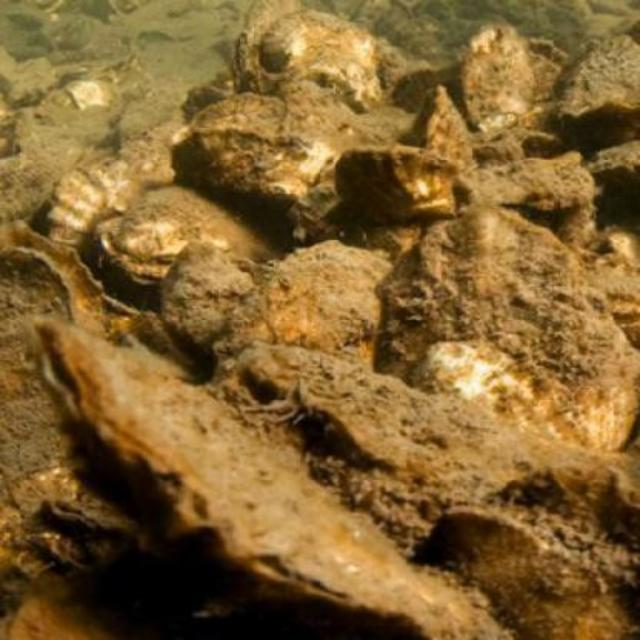Oyster-Closed: (35, 319, 457, 630), (382, 204, 638, 450), (257, 348, 638, 507), (422, 476, 638, 638), (218, 243, 395, 373), (100, 181, 286, 283), (0, 250, 74, 496), (177, 91, 314, 192), (262, 14, 384, 112), (162, 246, 275, 349), (50, 161, 166, 251), (333, 144, 459, 226), (232, 0, 303, 98), (468, 28, 537, 128), (464, 157, 591, 207), (565, 37, 638, 121), (411, 90, 472, 170)
